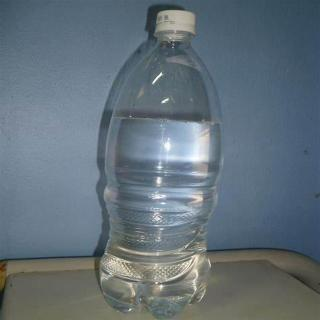Anorganik: (95, 1, 221, 320)
